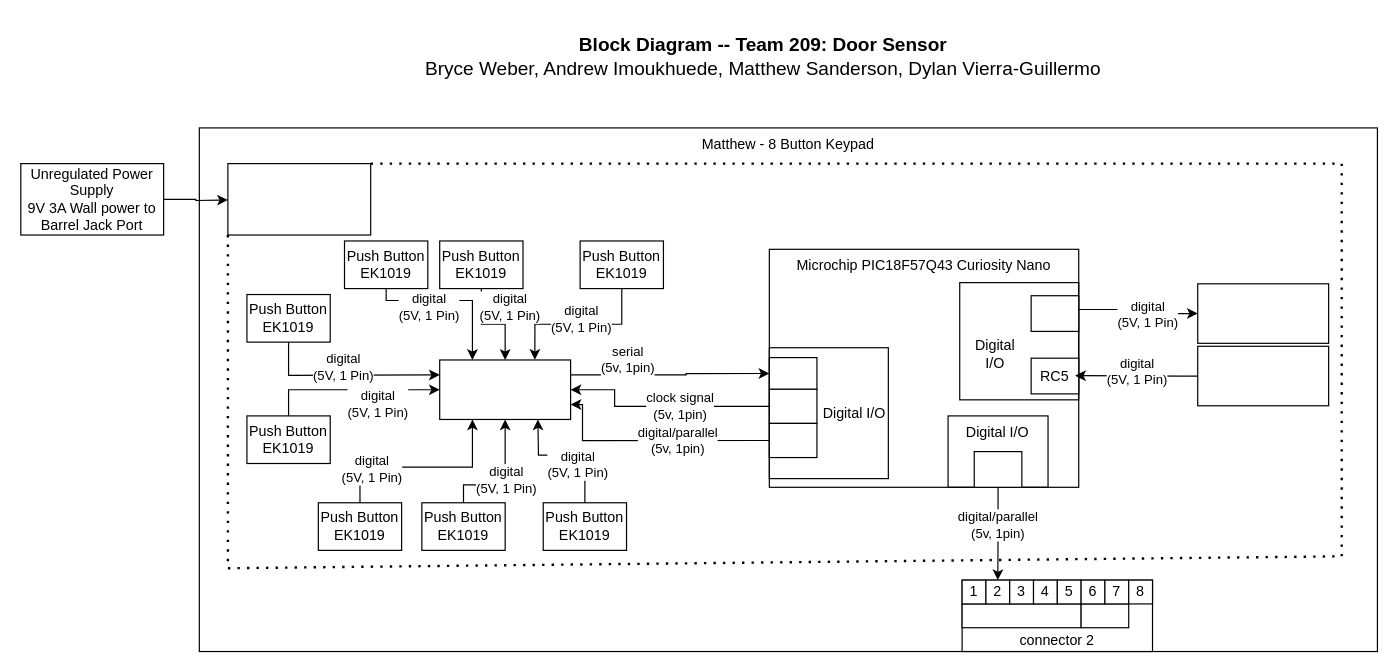
Image size: 1398x672. Some labels were removed from this diagram. Each missing label, with the centre of its shape:
5V 1.5A Voltage Regulator L7805CV STMicroelectronics: the point at 299,198
analog: the point at 1104,615
digital: the point at 1021,615
PISO 74HC165 Nexperia: the point at 505,389
RB2: the point at 997,468
RC4: the point at 1054,313
Red LED: the point at 1263,313
RF4: the point at 792,372
RF5: the point at 792,405
RF6: the point at 792,440
Switch: the point at 1263,375
